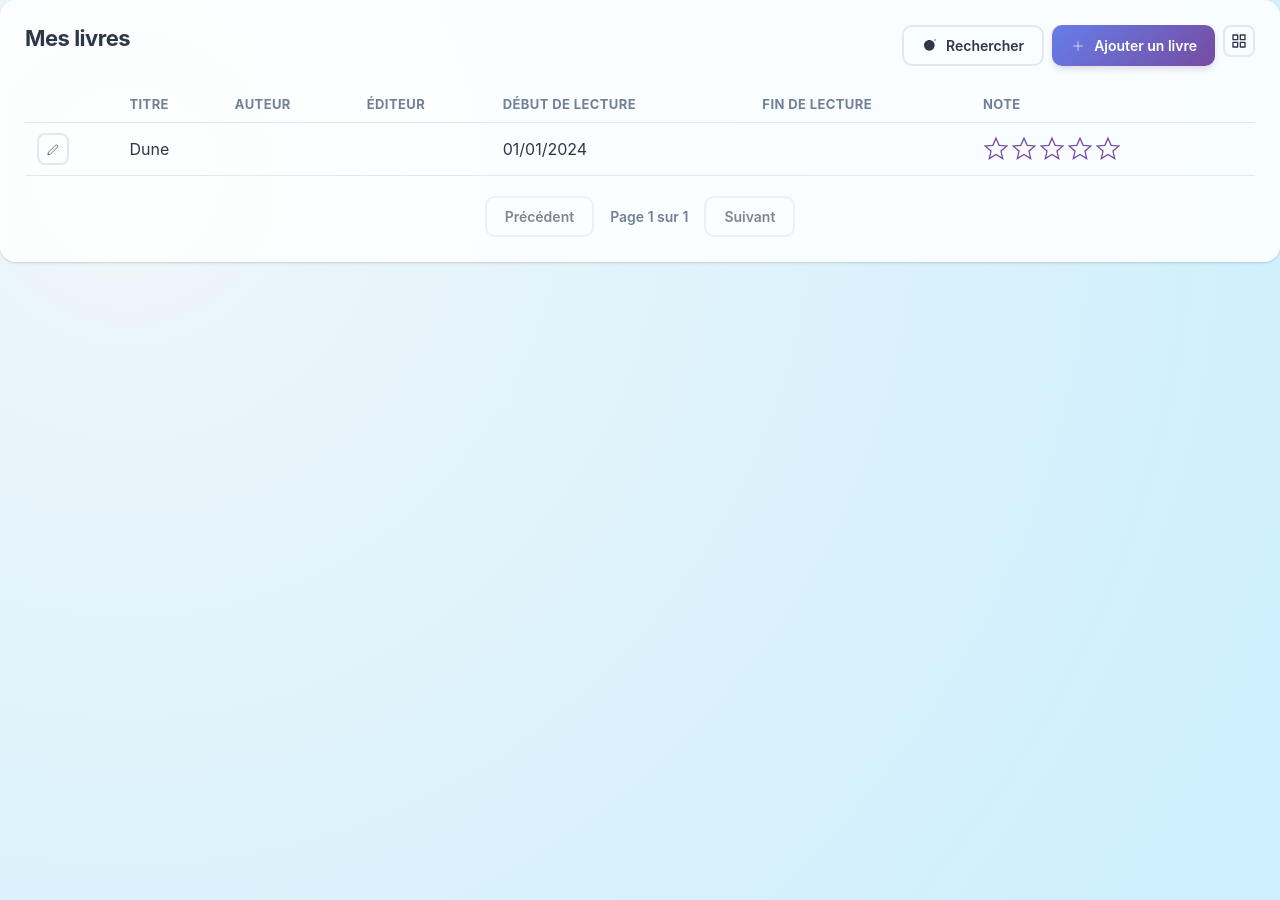
Test: LivresList › opens the edit modal pre-filled when clicking the edit button on a row
Click the button named "Modifier le livre".
click(53, 149)  # box top-left (37, 133), bottom-right (69, 165)
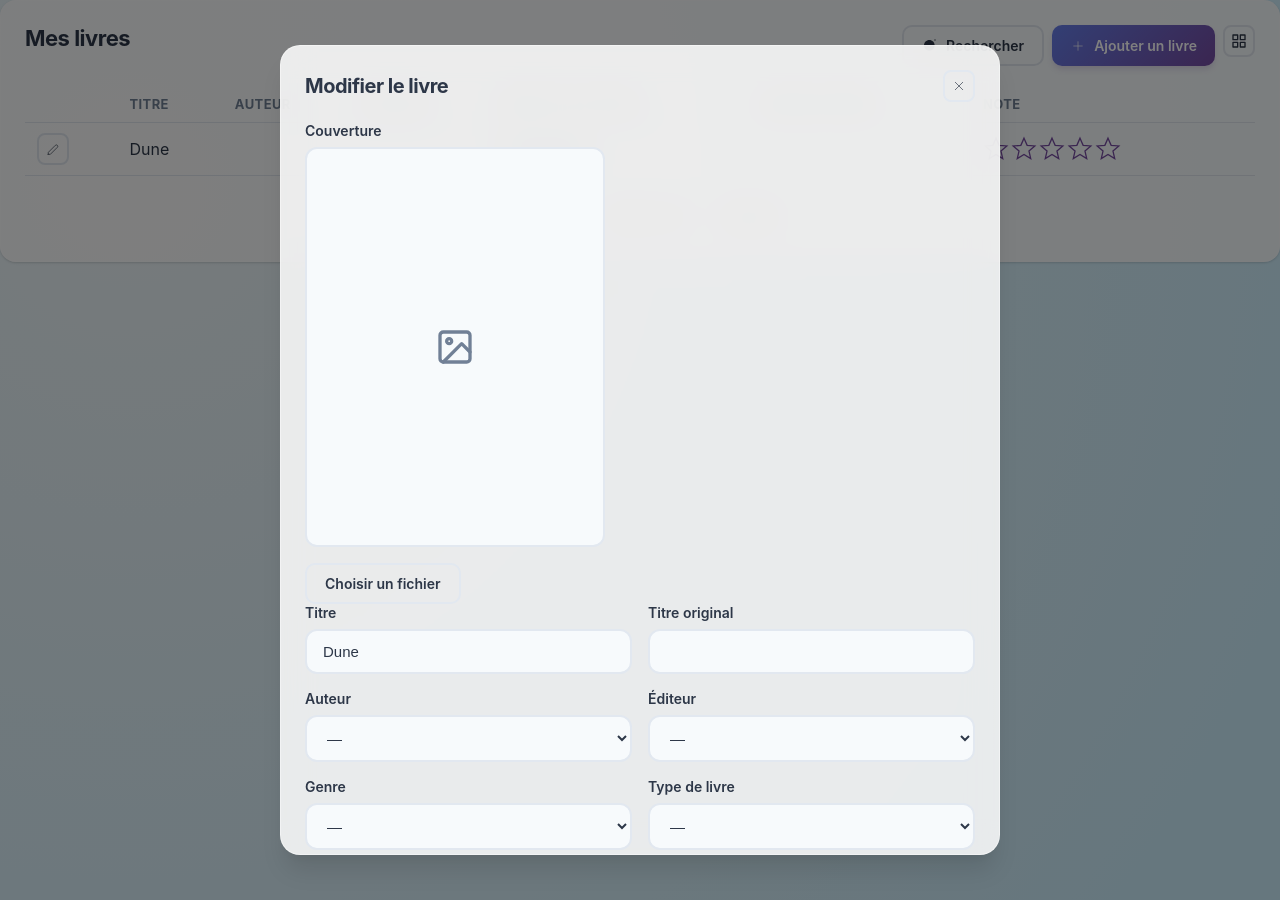
expect the heading "Modifier le livre" is shown: met, box top-left (305, 74), bottom-right (448, 98)
expect the field labelled "Titre" holds "Dune": met, box top-left (305, 629), bottom-right (632, 674)
